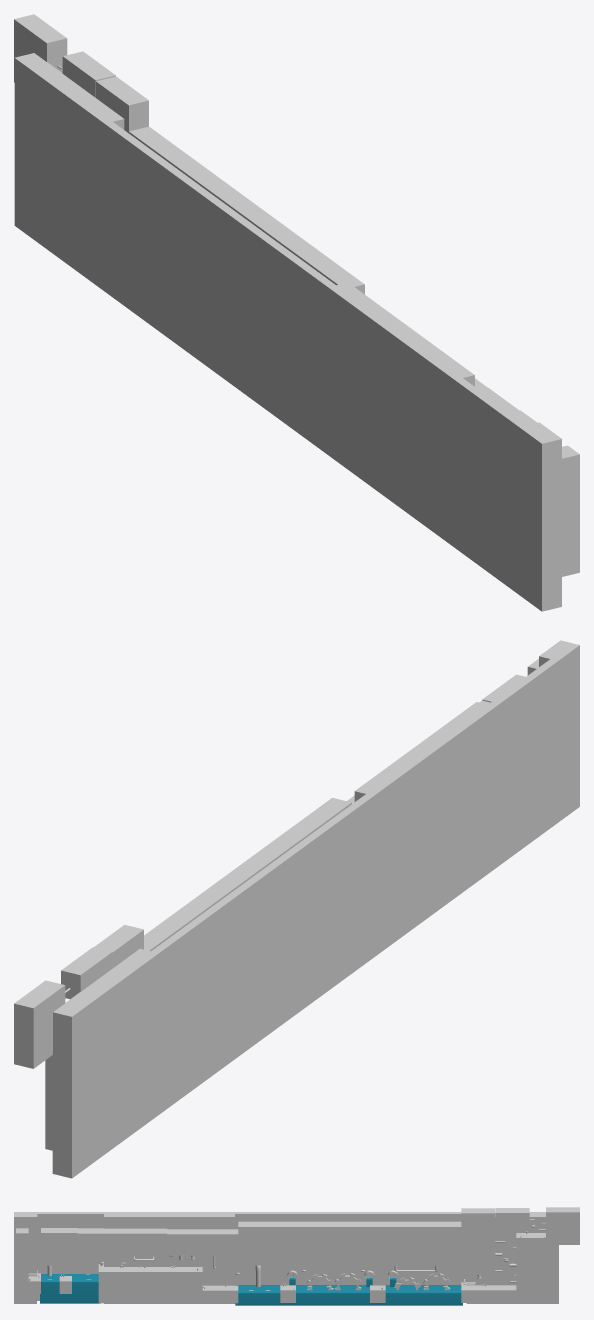
The model's file is mpa2.FBX.
The picture shows the model from 3 angles, top to bottom: view 1: azimuth 30°, elevation 25°; view 2: azimuth 150°, elevation 25°; view 3: azimuth 270°, elevation 25°; orthographic projection. The views are drawn at different scales.
Visible parts, largest first — view 1: Box070, Box065, Box029, Box062, Box053, Box061; view 2: Box070, Box065, Box062, Box061, Box053, Box055; view 3: Box070, Box065, Box071, Box027, Box053, Box055, Box001, Box030, Box036, Box062, Box032, Box040 (+13 smaller).
Boxes of the visible parts, left/top/right/bottom form: Box070: left=14, top=53, right=561, bottom=611; Box065: left=129, top=126, right=364, bottom=294; Box029: left=562, top=445, right=579, bottom=576; Box062: left=14, top=14, right=67, bottom=82; Box053: left=96, top=76, right=148, bottom=133; Box061: left=62, top=51, right=115, bottom=97; Box070: left=52, top=640, right=579, bottom=1178; Box065: left=144, top=797, right=351, bottom=951; Box062: left=14, top=980, right=65, bottom=1068; Box061: left=61, top=947, right=112, bottom=999; Box053: left=93, top=924, right=143, bottom=968; Box055: left=45, top=1055, right=52, bottom=1150; Box070: left=14, top=1212, right=558, bottom=1303; Box065: left=238, top=1221, right=461, bottom=1265; Box071: left=235, top=1285, right=462, bottom=1305; Box027: left=98, top=1264, right=202, bottom=1303; Box053: left=461, top=1208, right=495, bottom=1274; Box055: left=516, top=1233, right=546, bottom=1302; Box001: left=40, top=1274, right=100, bottom=1303; Box030: left=41, top=1228, right=77, bottom=1265; Box036: left=167, top=1229, right=216, bottom=1255; Box062: left=546, top=1207, right=579, bottom=1244; Box032: left=110, top=1228, right=167, bottom=1246; Box040: left=216, top=1229, right=238, bottom=1273.
Bounding box in the file's own units: 10.8 × 48.1 × 256.
